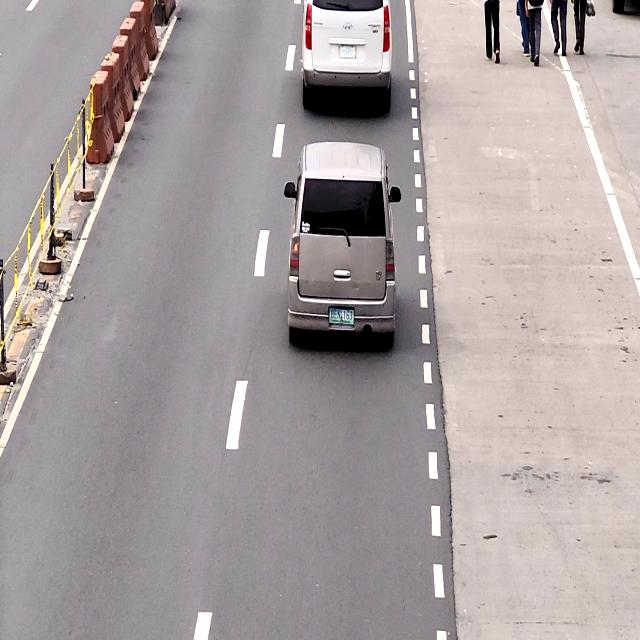Car: (289, 140, 395, 344), (302, 0, 395, 103)
License-Plate: (327, 306, 355, 331)
